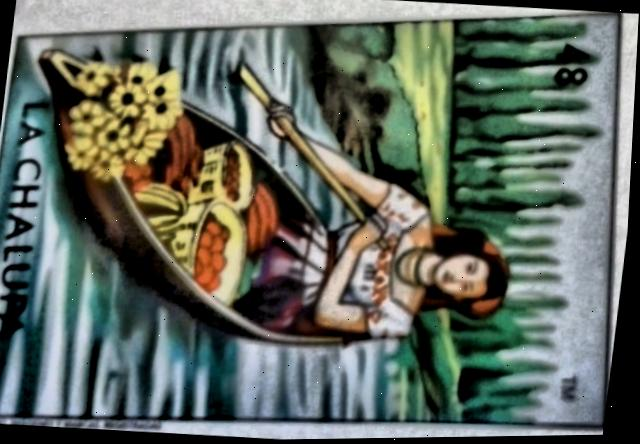La Chalupa: (0, 14, 621, 428)
